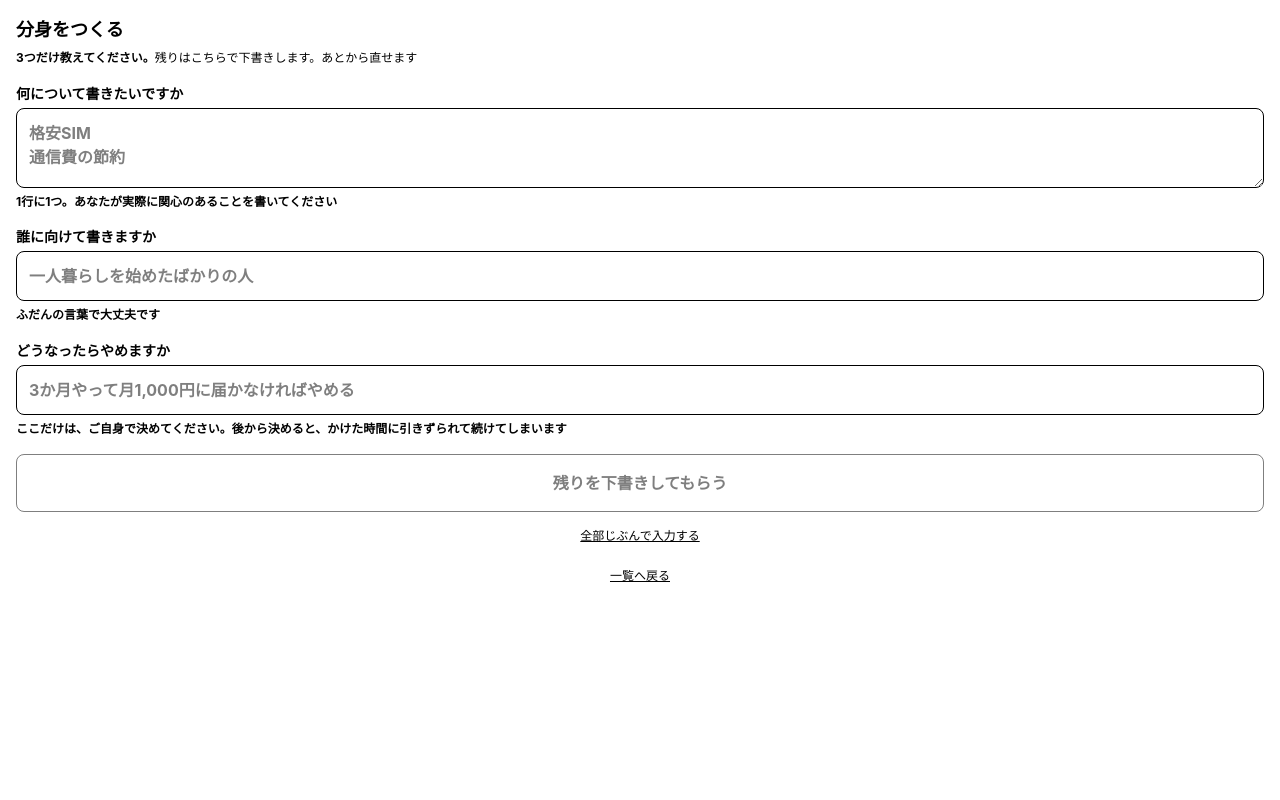
Scenario: 下書きができたあと › 23項目の画面が埋まって出る
Type "格安SIM" into the text box labelled "何について書きたいですか" at (640, 148), box x1=16 y1=108 x2=1264 y2=188
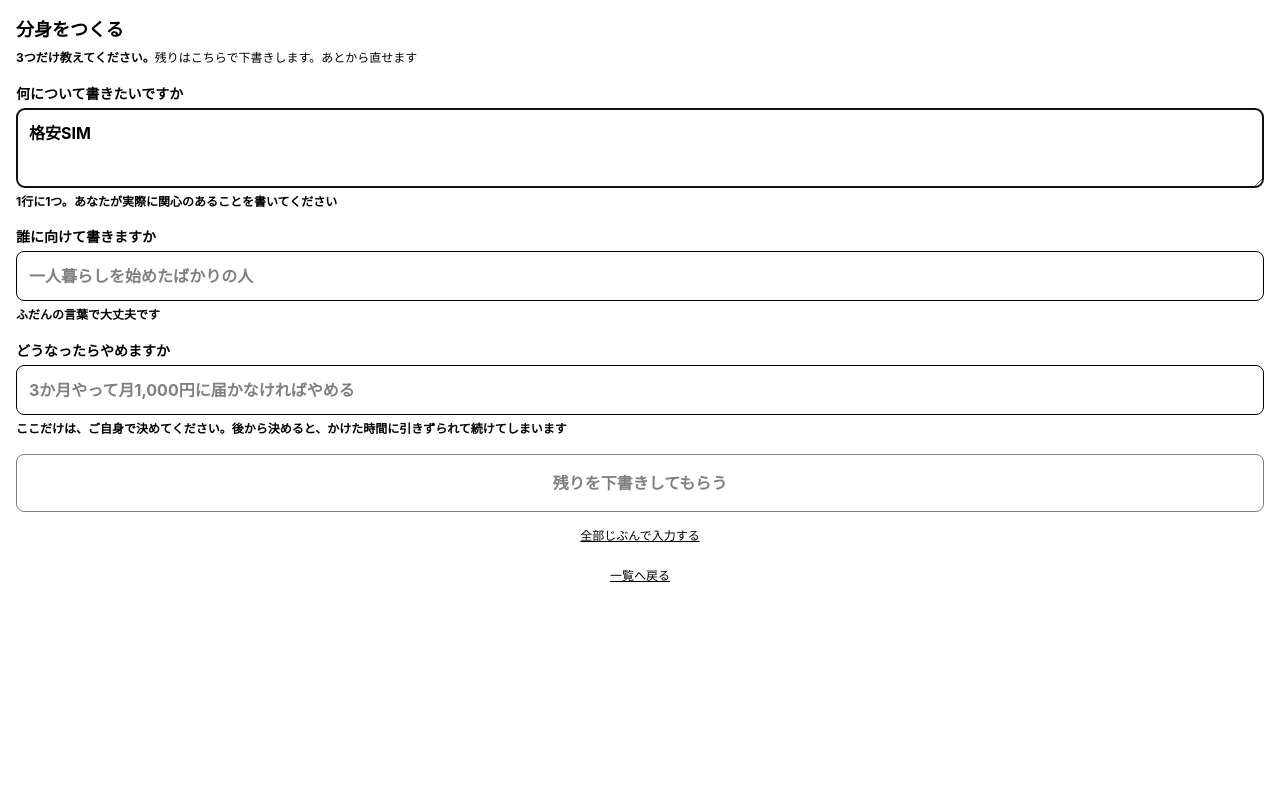
Type "一人暮らし" into the field labelled "誰に向けて書きますか ふだんの言葉で大丈夫です" at (640, 276), box x1=16 y1=251 x2=1264 y2=301
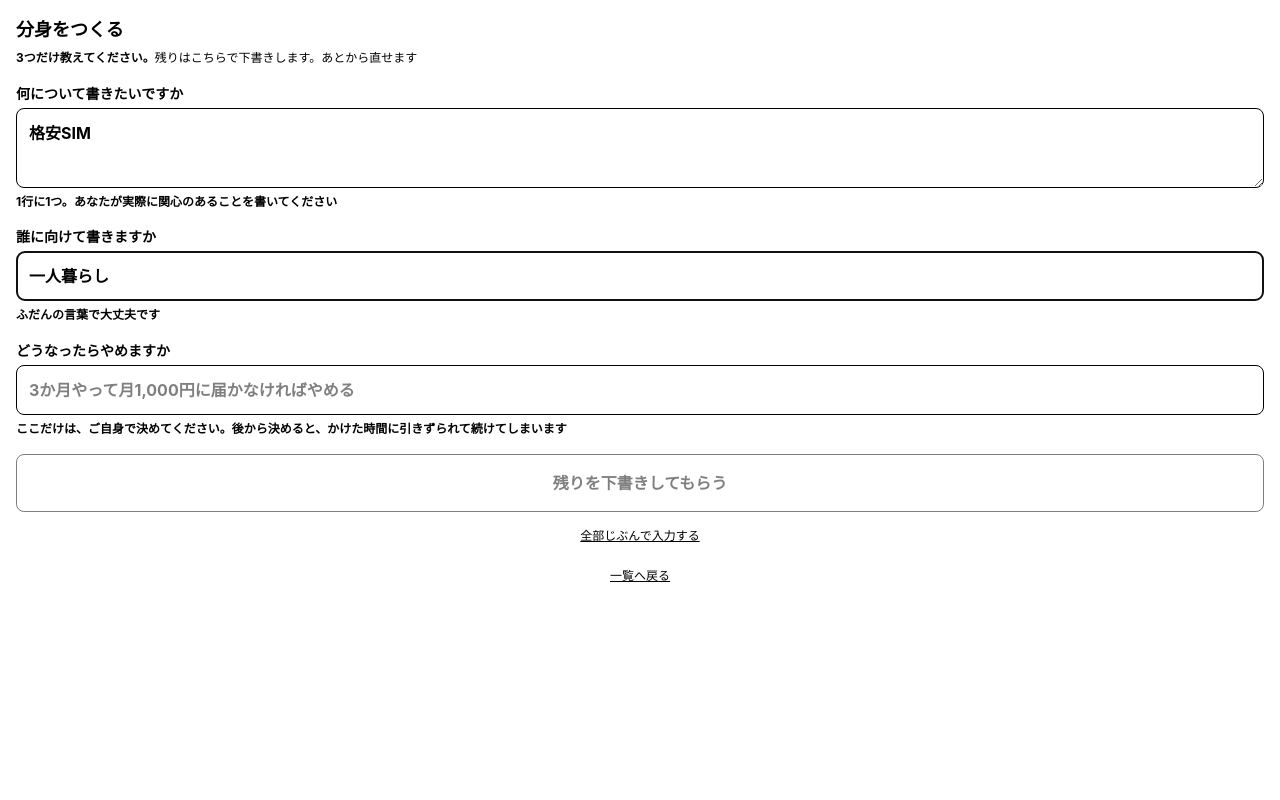
Type "3か月で見直す" into the field labelled "どうなったらやめますか ここだけは、ご自身で決めてください。後から決めると、かけた時間に引きずられて続けてしまいます" at (640, 390), box x1=16 y1=364 x2=1264 y2=414
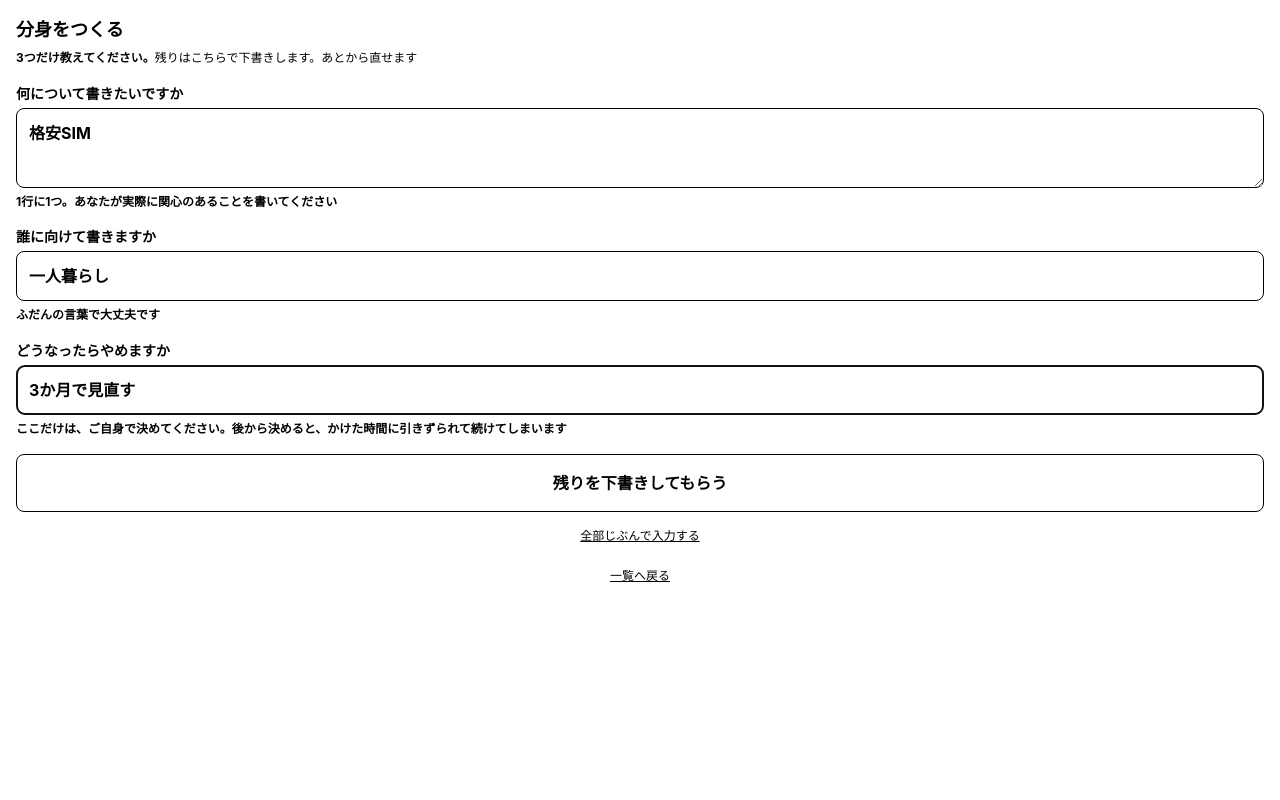
Click the button "残りを下書きしてもらう" at (640, 483), box x1=16 y1=454 x2=1264 y2=512
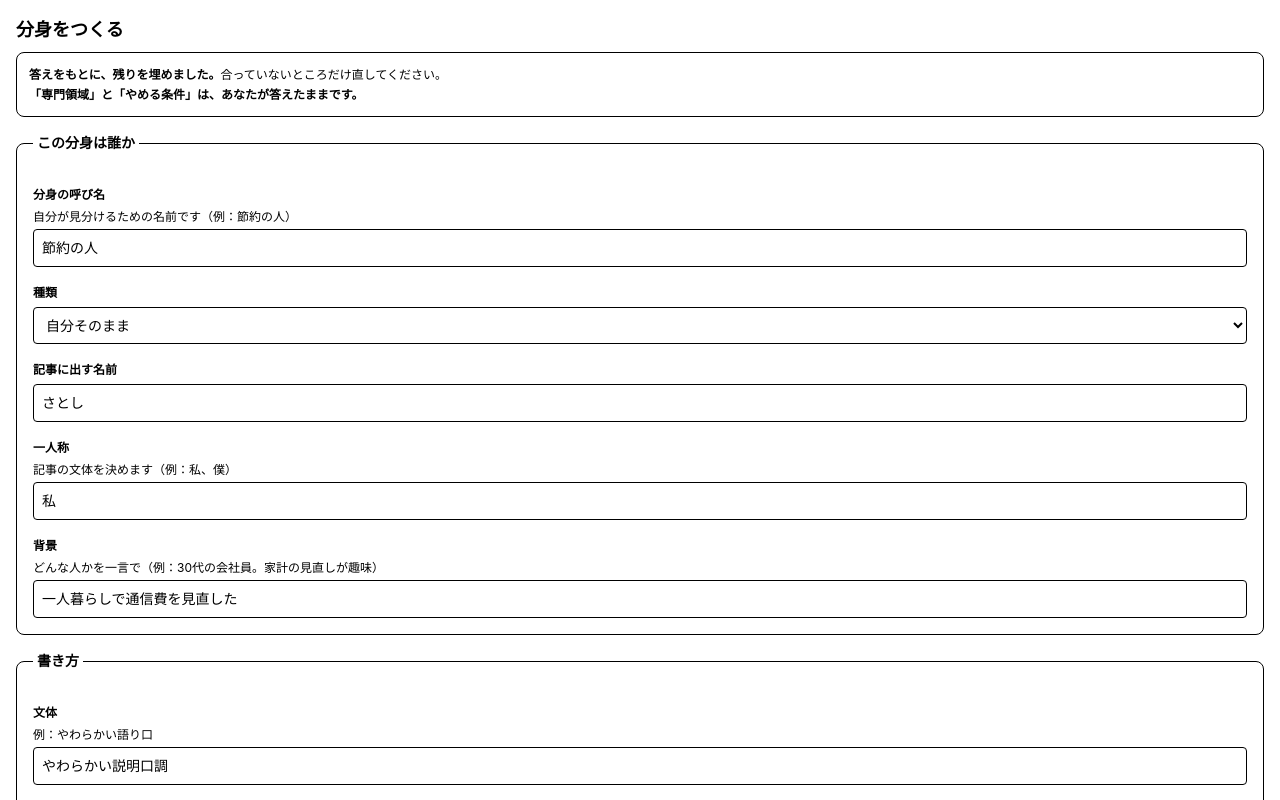
Now the field labelled "一人称" holds "私", box x1=33 y1=482 x2=1247 y2=520
Now the field labelled "文体" holds "やわらかい説明口調", box x1=33 y1=747 x2=1247 y2=785
